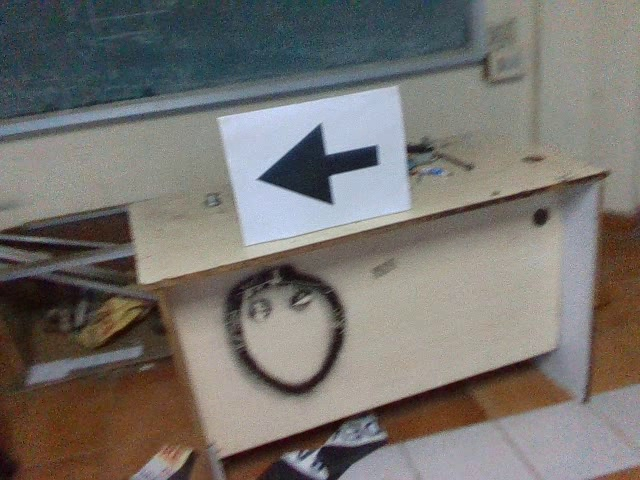Left: (252, 116, 383, 209)
